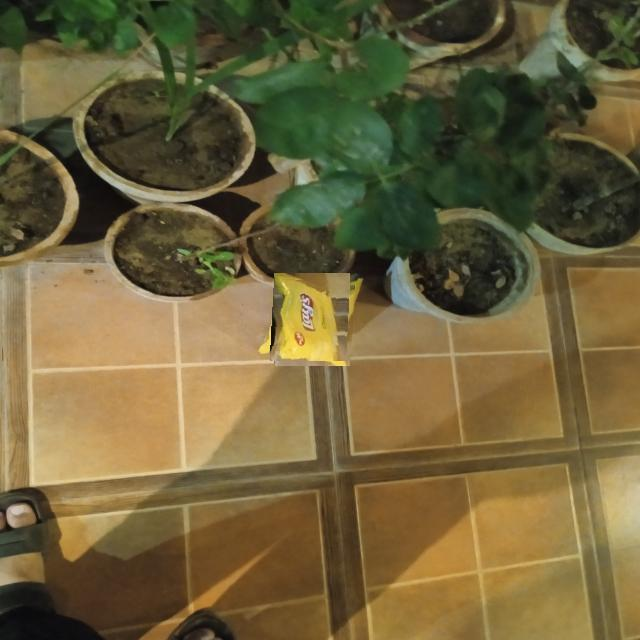Plastic: (269, 277, 355, 361)
